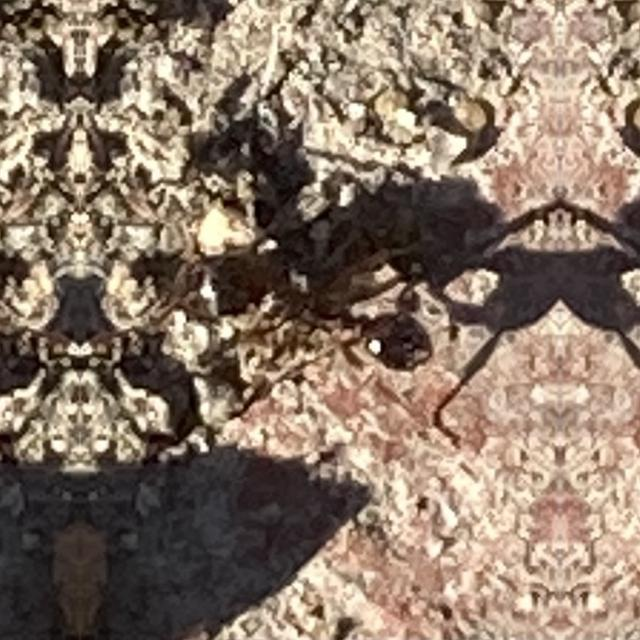Tetramorium: (88, 194, 452, 400)
